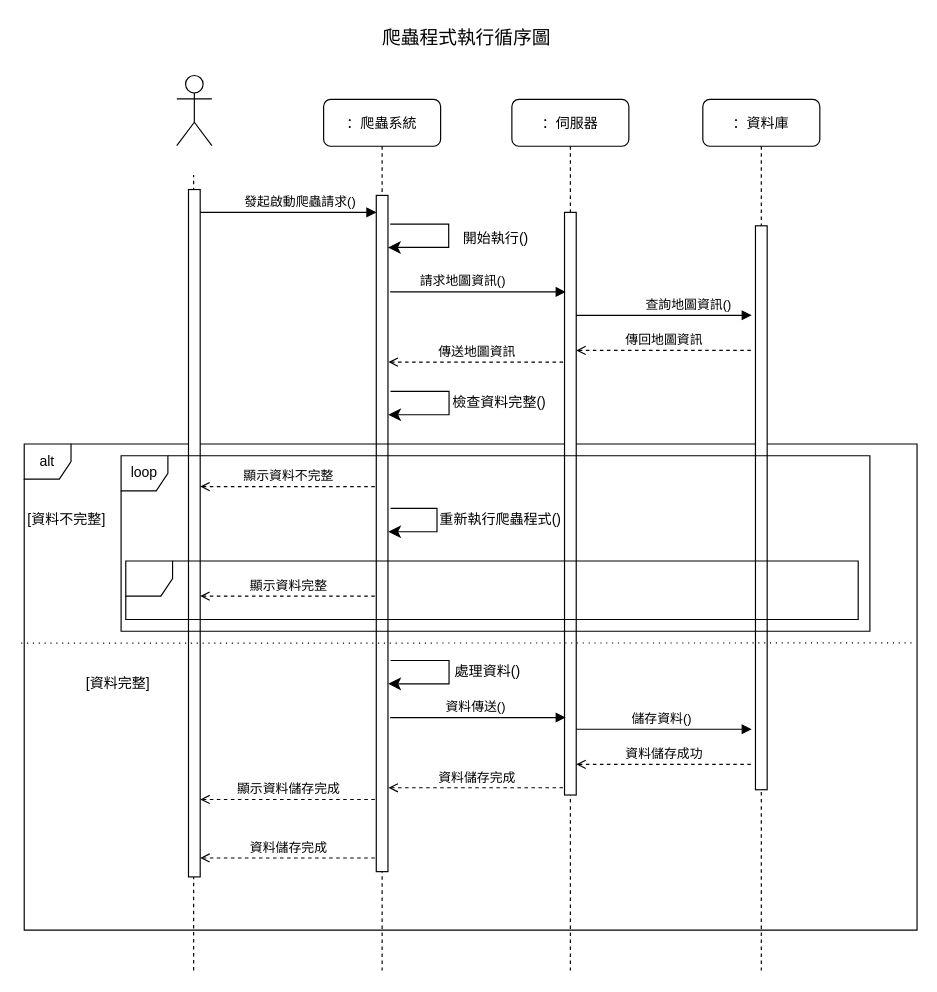
Some shapes in this 937 by 992 pixel diagram are drawn without their labels. Each missing label, with the centre of its shape:
break: [491,590]
：系統: [194,110]
